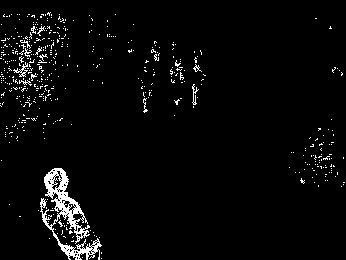person: (41, 165, 105, 260)
